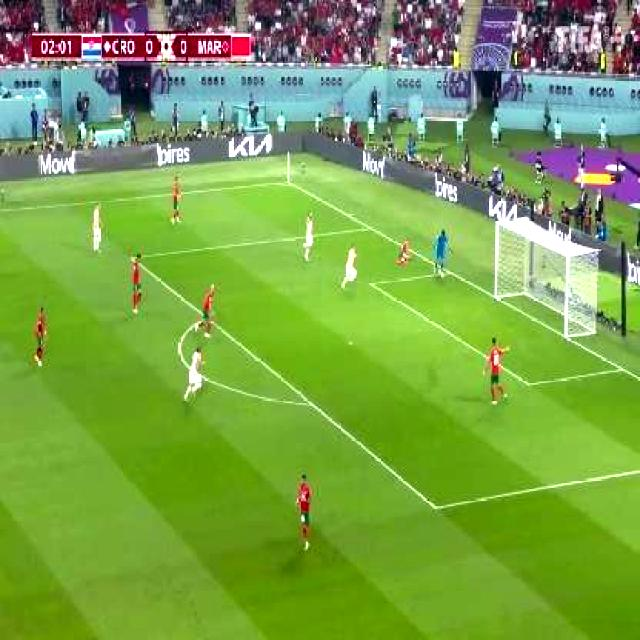bigarea_bottom_inner: (423, 492, 446, 522)
bigarea_top_inner: (128, 252, 135, 263)
bigarea_top_outter: (363, 218, 377, 236)
bottom_arc_area_intersection: (302, 391, 318, 414)
corner: (278, 175, 296, 188)
smallarea_bottom_inner: (518, 371, 537, 397)
smallarea_bottom_outter: (612, 357, 631, 378)
smallarea_top_inner: (362, 272, 378, 294)
smallarea_top_outter: (440, 263, 455, 280)
